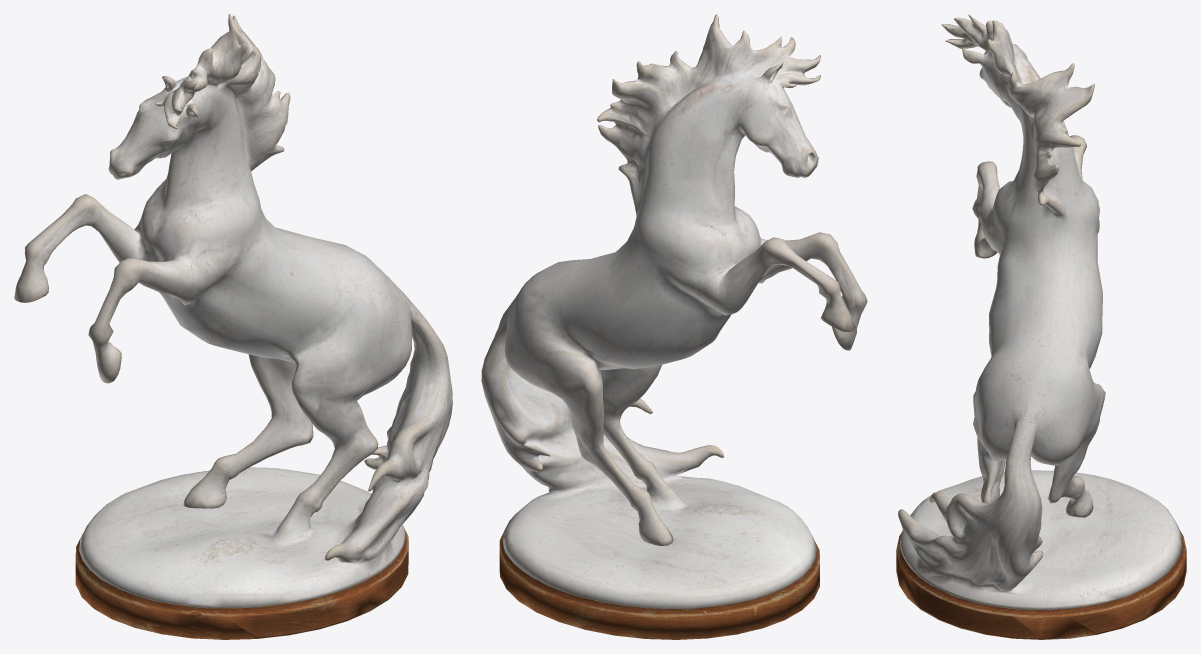
File: horse_statue_01.glb
The picture shows the model from 3 angles, left to right: view 1: azimuth 30°, elevation 25°; view 2: azimuth 150°, elevation 25°; view 3: azimuth 270°, elevation 25°; orthographic projection. The views are drawn at different scales.
Parts seen in each view (by area): view 1: horse_statue_01; view 2: horse_statue_01; view 3: horse_statue_01.
Part boxes in pixels (bbox=[...]): horse_statue_01: bbox=[14, 14, 452, 639]; horse_statue_01: bbox=[481, 14, 867, 639]; horse_statue_01: bbox=[896, 14, 1186, 639].
Bounding box in the file's own units: 0.1638 × 0.22 × 0.1078.
1 material, 1 textured.
